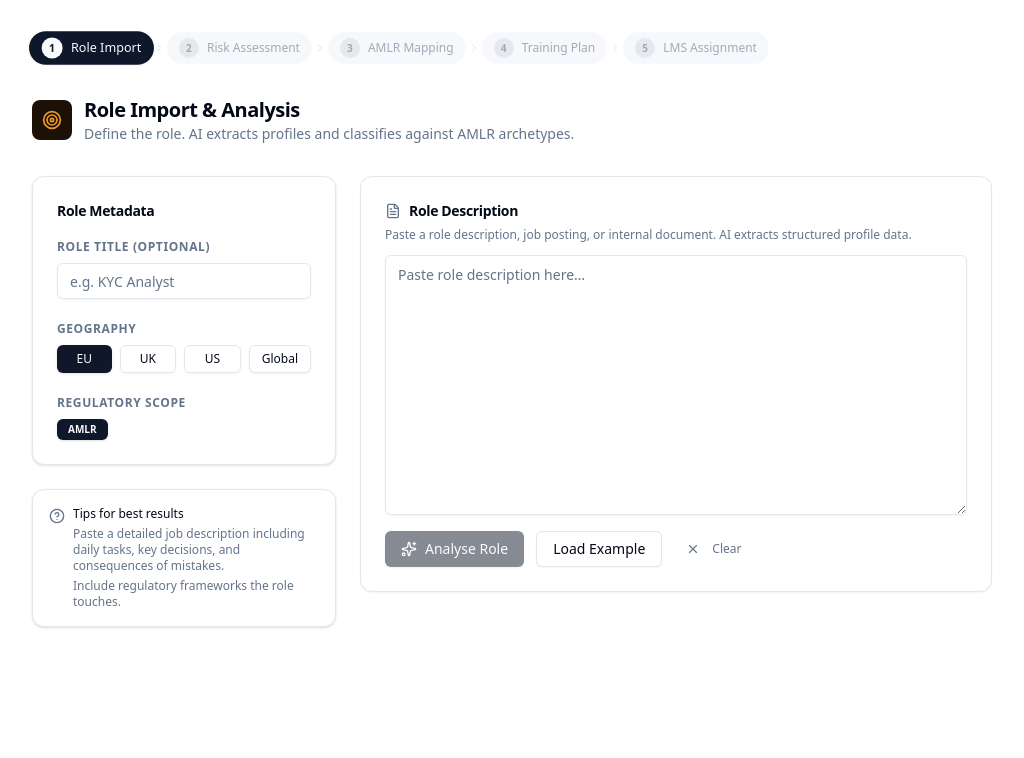
Test: RoleImport — Active Pipeline › shows analysis after clicking Analyse Role
Expected: the heading "Role Import & Analysis" is shown, [84, 96, 300, 123]
Type "KYC Analyst reviews high-risk clients." into the text box with placeholder "Paste role description here…" at (676, 385), box [385, 255, 967, 515]
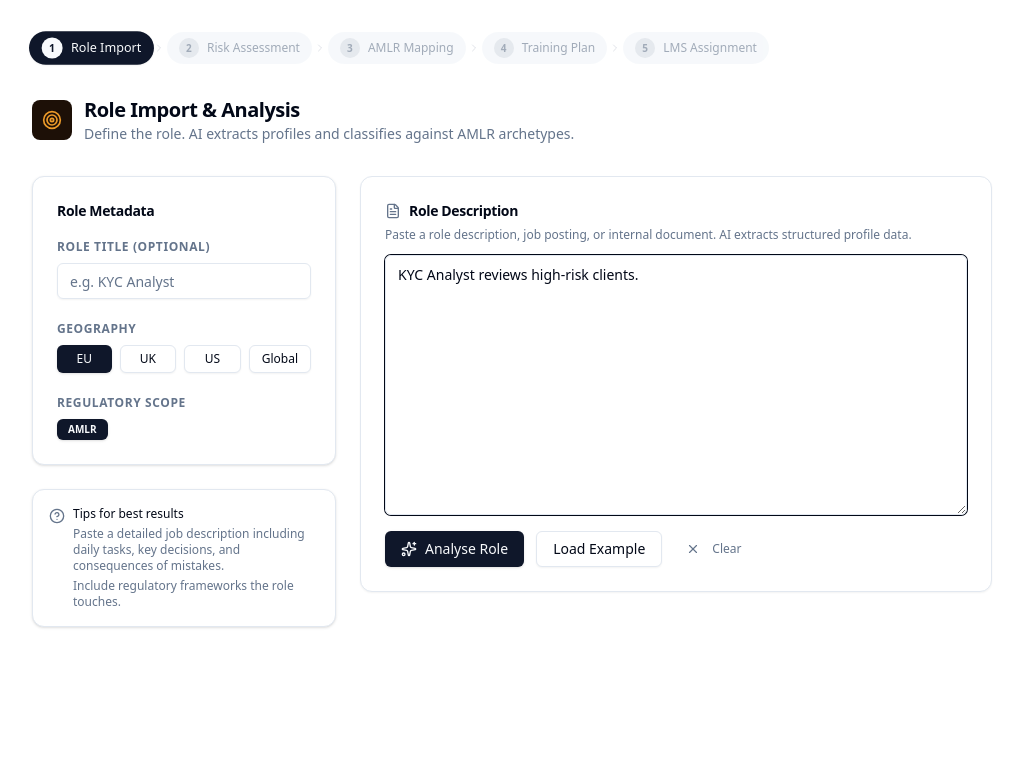
Click the button "Analyse Role" at (455, 549), box [385, 531, 524, 567]
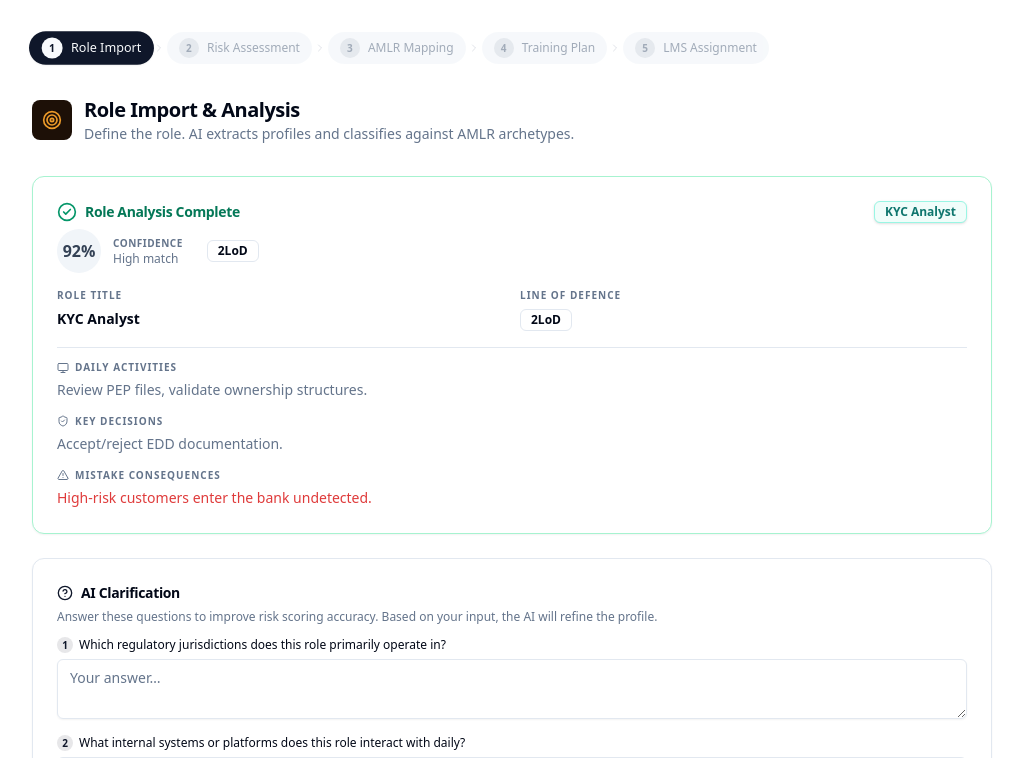
Result: the heading "Role Analysis Complete" is shown at [85, 202, 240, 222]
Result: the text "KYC Analyst" in the row of "Role Analysis Complete" is shown at [885, 203, 956, 220]
Result: the text "92%" is shown at [63, 239, 95, 263]
